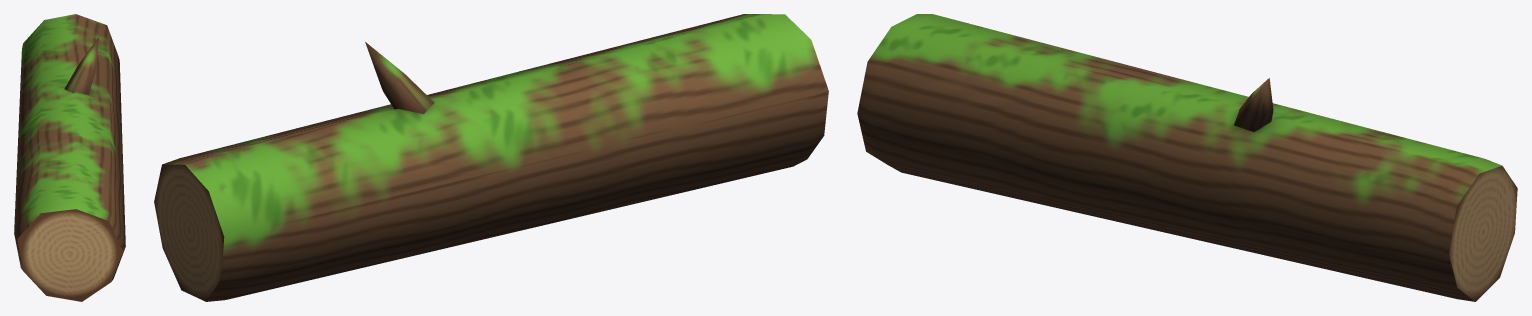
Rendered from fallen_log.obj.
3 renders of one model, left to right at view 1: azimuth 30°, elevation 25°; view 2: azimuth 150°, elevation 25°; view 3: azimuth 270°, elevation 25°, orthographic. The views are drawn at different scales.
Parts seen in each view (by area): view 1: FallenLog; view 2: FallenLog; view 3: FallenLog.
Part boxes in pixels (x1,y1,x2,y2): FallenLog: (14, 14, 125, 301); FallenLog: (154, 14, 828, 301); FallenLog: (857, 14, 1517, 301).
Bounding box in the file's own units: 2.2 × 1.02 × 3.11.
1 material, 1 textured.
